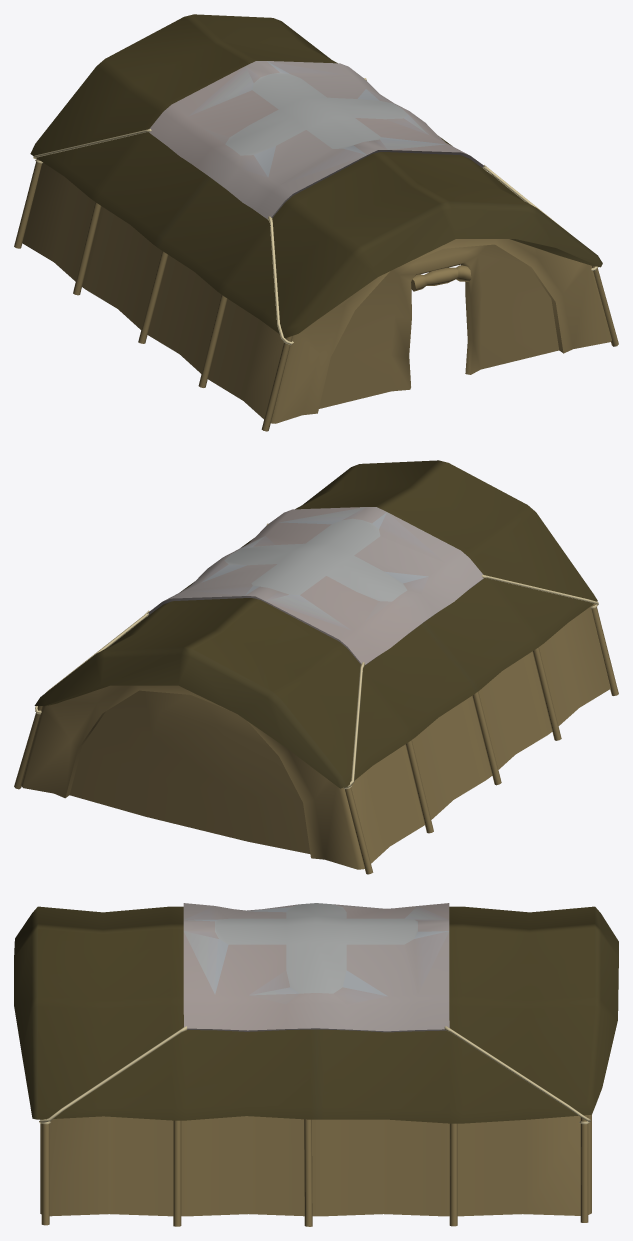
Rendered from Tent1.fbx.
The picture shows the model from 3 angles, top to bottom: view 1: azimuth 30°, elevation 25°; view 2: azimuth 150°, elevation 25°; view 3: azimuth 270°, elevation 25°; orthographic projection. The views are drawn at different scales.
Visible parts, largest first — view 1: tent_001; view 2: tent_001; view 3: tent_001.
Part boxes in pixels (x1,y1,x2,y2): tent_001: [14, 14, 618, 431]; tent_001: [14, 460, 618, 874]; tent_001: [14, 903, 618, 1226].
Bounding box in the file's own units: 698 × 354 × 925.
